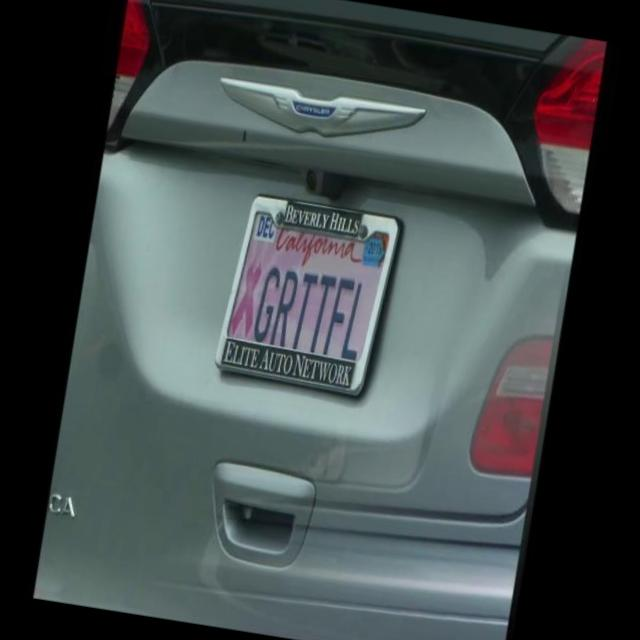LicensePlate: (202, 169, 410, 417)
